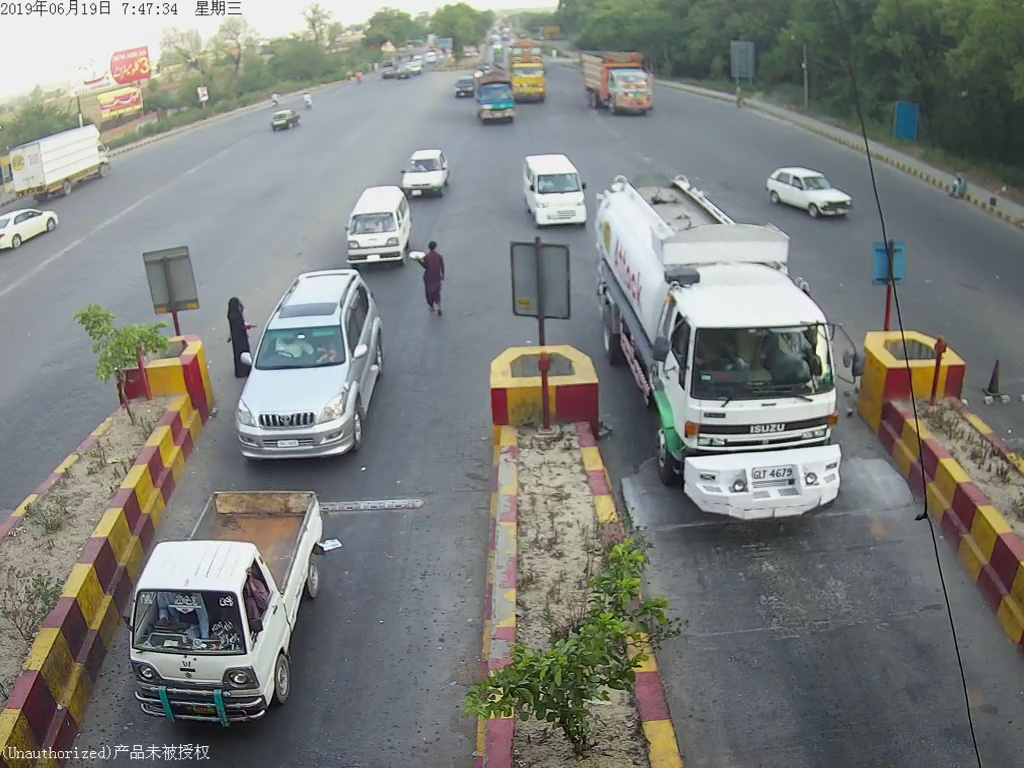Cat-1: (128, 495, 331, 723), (337, 189, 419, 272), (516, 149, 588, 232), (394, 146, 455, 198)
Cat-2: (469, 59, 518, 131)
Cat-4: (603, 179, 854, 525), (578, 44, 658, 118), (766, 158, 854, 220)
